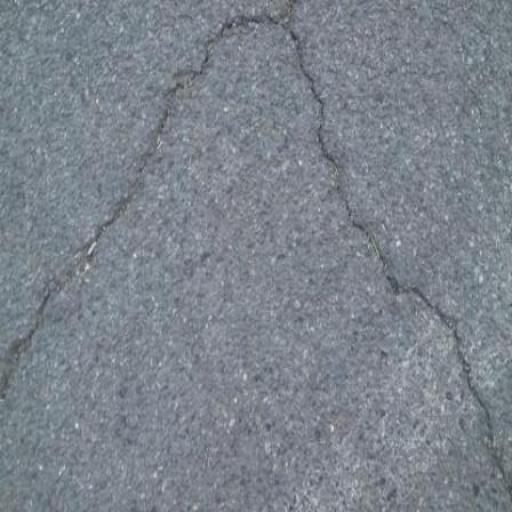spalling: (5, 4, 512, 485)
